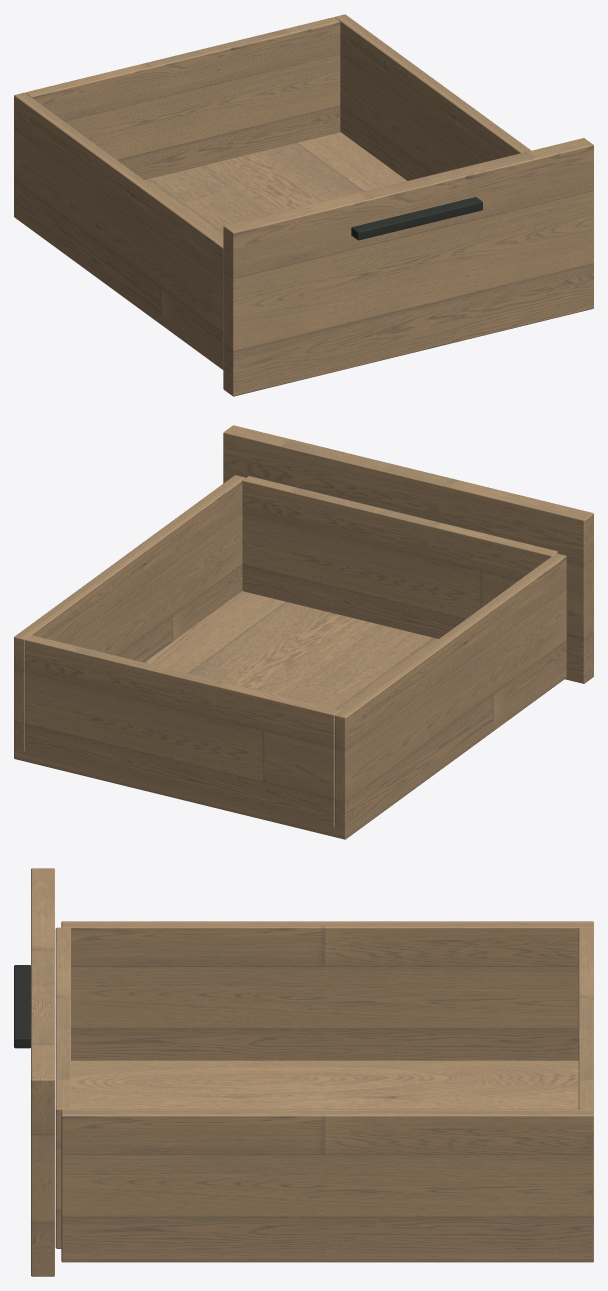
Rendered from bedside_upper_drawer.glb.
The picture shows the model from 3 angles, top to bottom: view 1: azimuth 30°, elevation 25°; view 2: azimuth 150°, elevation 25°; view 3: azimuth 270°, elevation 25°; orthographic projection. The views are drawn at different scales.
Visible parts, largest first — view 1: bedside_upper_drawer_front, bedside_upper_drawer_end_0.247, bedside_upper_drawer_side_-0.23, bedside_upper_drawer_side_0.23, bedside_upper_drawer_floor, bedside_upper_drawer_pull; view 2: bedside_upper_drawer_end_0.247, bedside_upper_drawer_end_-0.293, bedside_upper_drawer_side_-0.23, bedside_upper_drawer_floor, bedside_upper_drawer_front, bedside_upper_drawer_side_0.23; view 3: bedside_upper_drawer_side_0.23, bedside_upper_drawer_side_-0.23, bedside_upper_drawer_floor, bedside_upper_drawer_front, bedside_upper_drawer_end_-0.293, bedside_upper_drawer_end_0.247, bedside_upper_drawer_pull.
Part boxes in pixels (x1,y1,x2,y2): bedside_upper_drawer_front: [223, 138, 593, 396]; bedside_upper_drawer_end_0.247: [25, 17, 340, 179]; bedside_upper_drawer_side_-0.23: [14, 92, 223, 362]; bedside_upper_drawer_side_0.23: [335, 14, 531, 180]; bedside_upper_drawer_floor: [14, 132, 406, 369]; bedside_upper_drawer_pull: [351, 197, 482, 240]; bedside_upper_drawer_end_0.247: [25, 635, 339, 829]; bedside_upper_drawer_end_-0.293: [242, 476, 557, 638]; bedside_upper_drawer_side_-0.23: [335, 553, 566, 832]; bedside_upper_drawer_floor: [14, 591, 566, 839]; bedside_upper_drawer_front: [223, 425, 593, 683]; bedside_upper_drawer_side_0.23: [14, 475, 245, 752]; bedside_upper_drawer_side_0.23: [61, 1109, 593, 1254]; bedside_upper_drawer_side_-0.23: [61, 921, 593, 1060]; bedside_upper_drawer_floor: [61, 1060, 593, 1262]; bedside_upper_drawer_front: [31, 868, 54, 1276]; bedside_upper_drawer_end_-0.293: [55, 927, 70, 1248]; bedside_upper_drawer_end_0.247: [578, 927, 593, 1109]; bedside_upper_drawer_pull: [14, 965, 30, 1048].
Size of the model in its own units: 0.518 by 0.225 by 0.599.
Materials: 2 (1 with a texture image).
